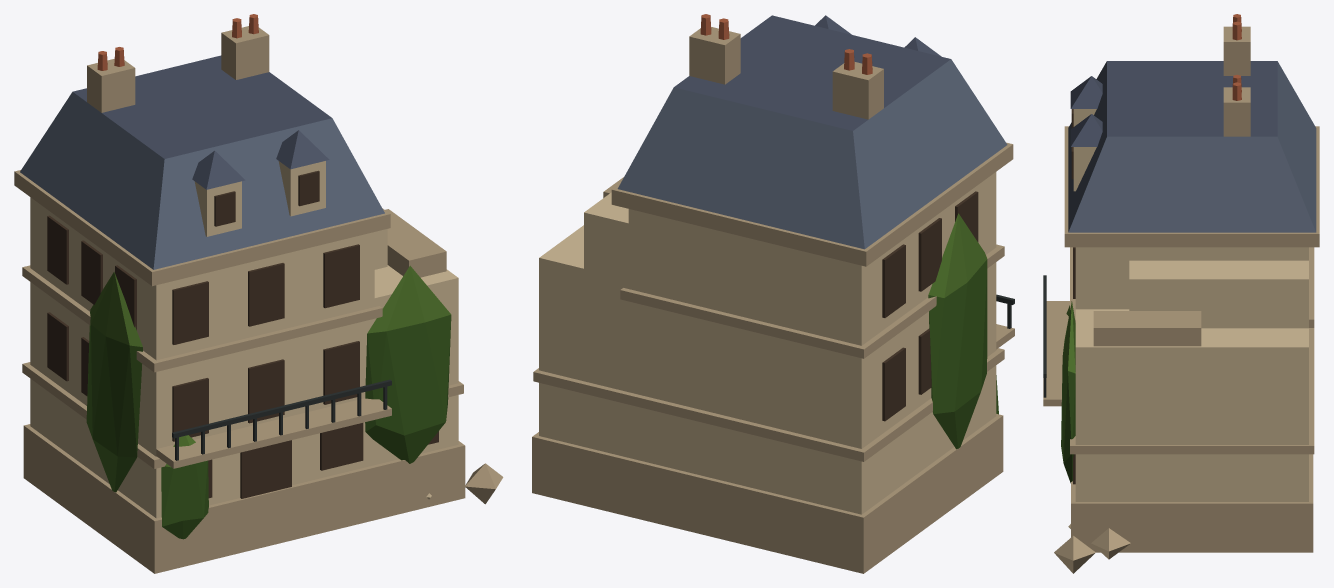
Rendered from haussmann_ruin.glb.
3 renders of one model, left to right at view 1: azimuth 30°, elevation 25°; view 2: azimuth 150°, elevation 25°; view 3: azimuth 270°, elevation 25°, orthographic. The views are drawn at different scales.
Parts seen in each view (by area): view 1: haussmann_ruin2; view 2: haussmann_ruin2; view 3: haussmann_ruin2.
Part boxes in pixels (x1,y1,x2,y2): haussmann_ruin2: [14, 14, 503, 573]; haussmann_ruin2: [532, 14, 1014, 573]; haussmann_ruin2: [1043, 14, 1319, 573].
Size of the model in its own units: 4.27 by 5.22 by 3.08.
